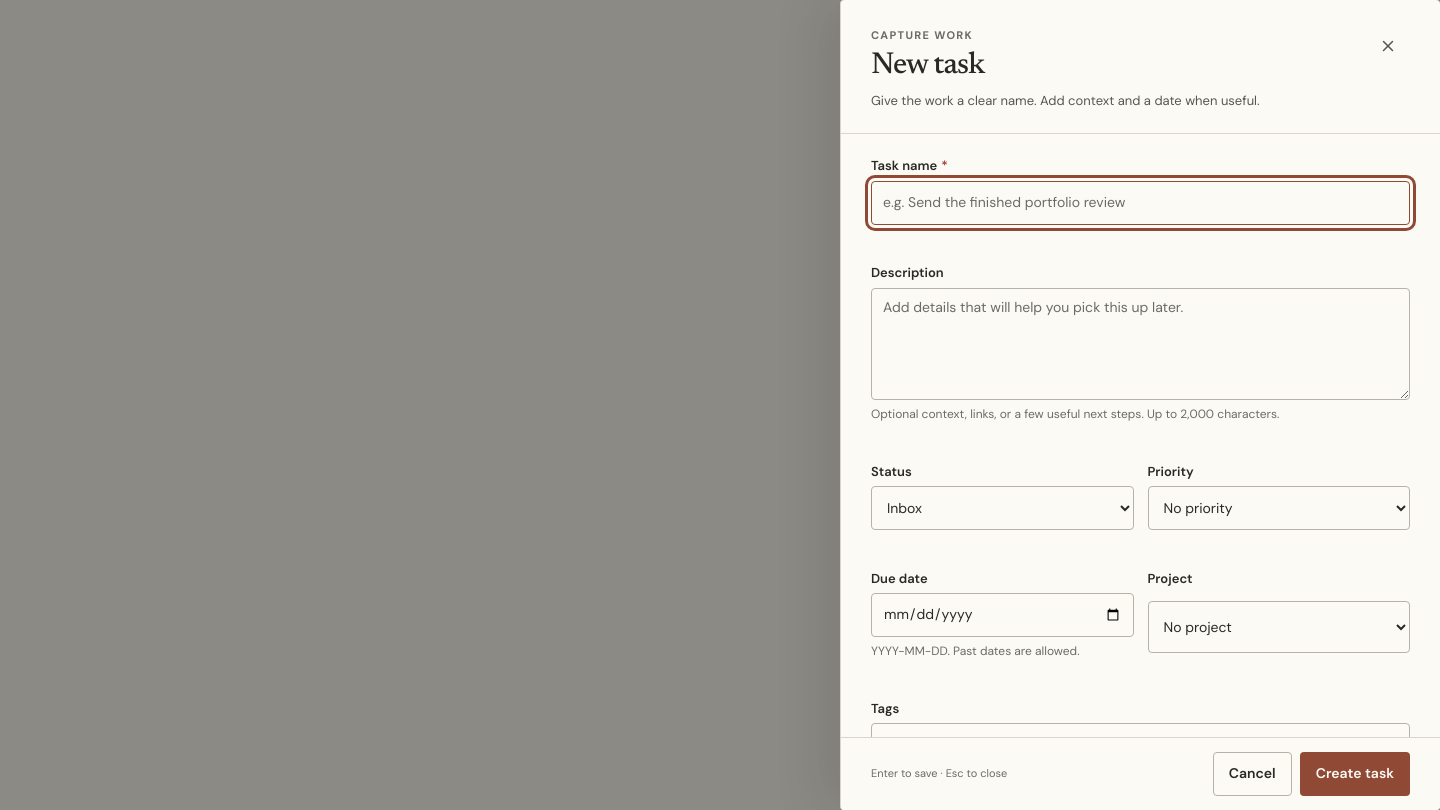
Test: TaskFormDialog › disables repeat submission while the save promise is pending
The width and height of the screenshot is (1440, 810).
Type "Write the outline" into the field labelled "Task name" at (1140, 203), box [871,181,1410,225]
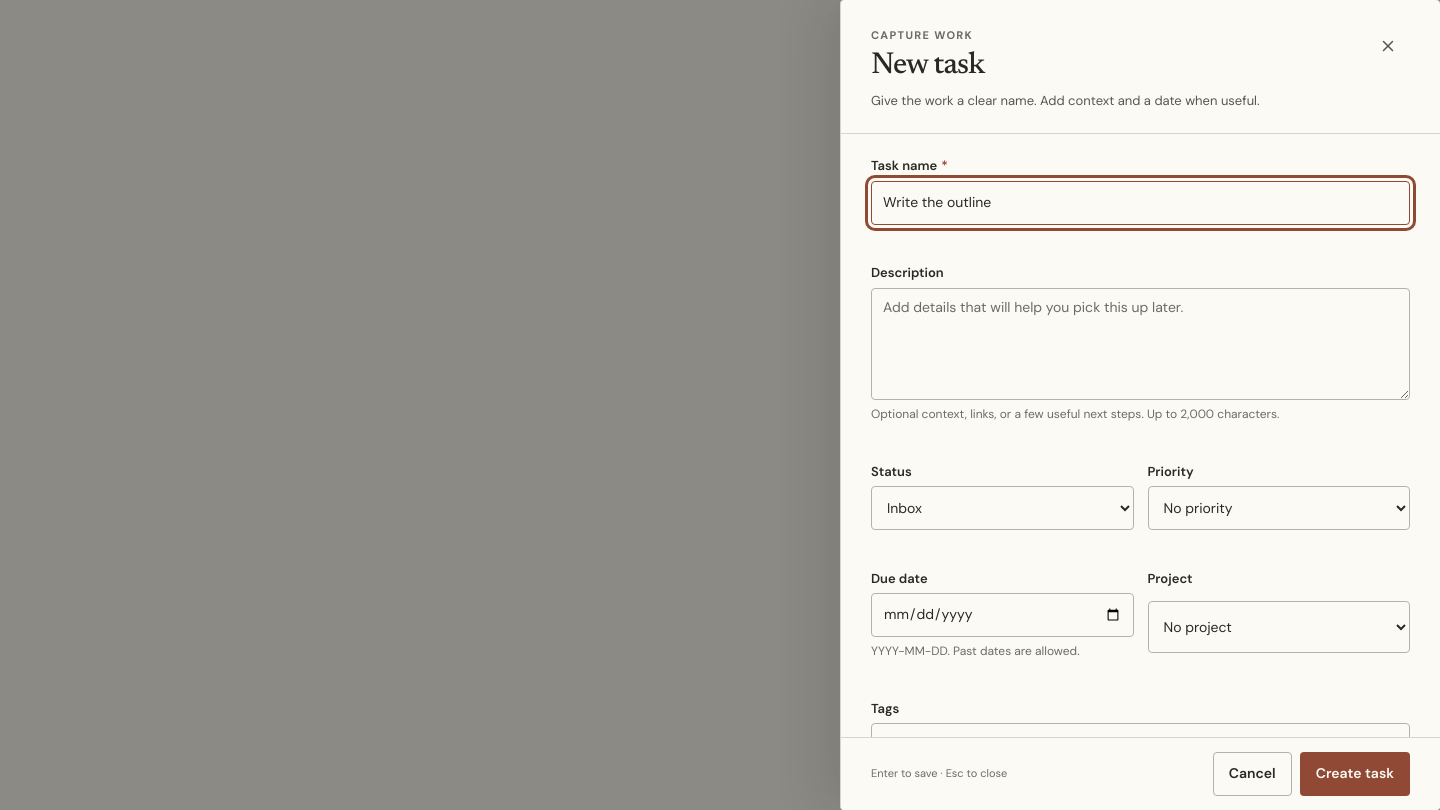
Click the button "Create task" at (1355, 774), box [1300,752,1410,796]
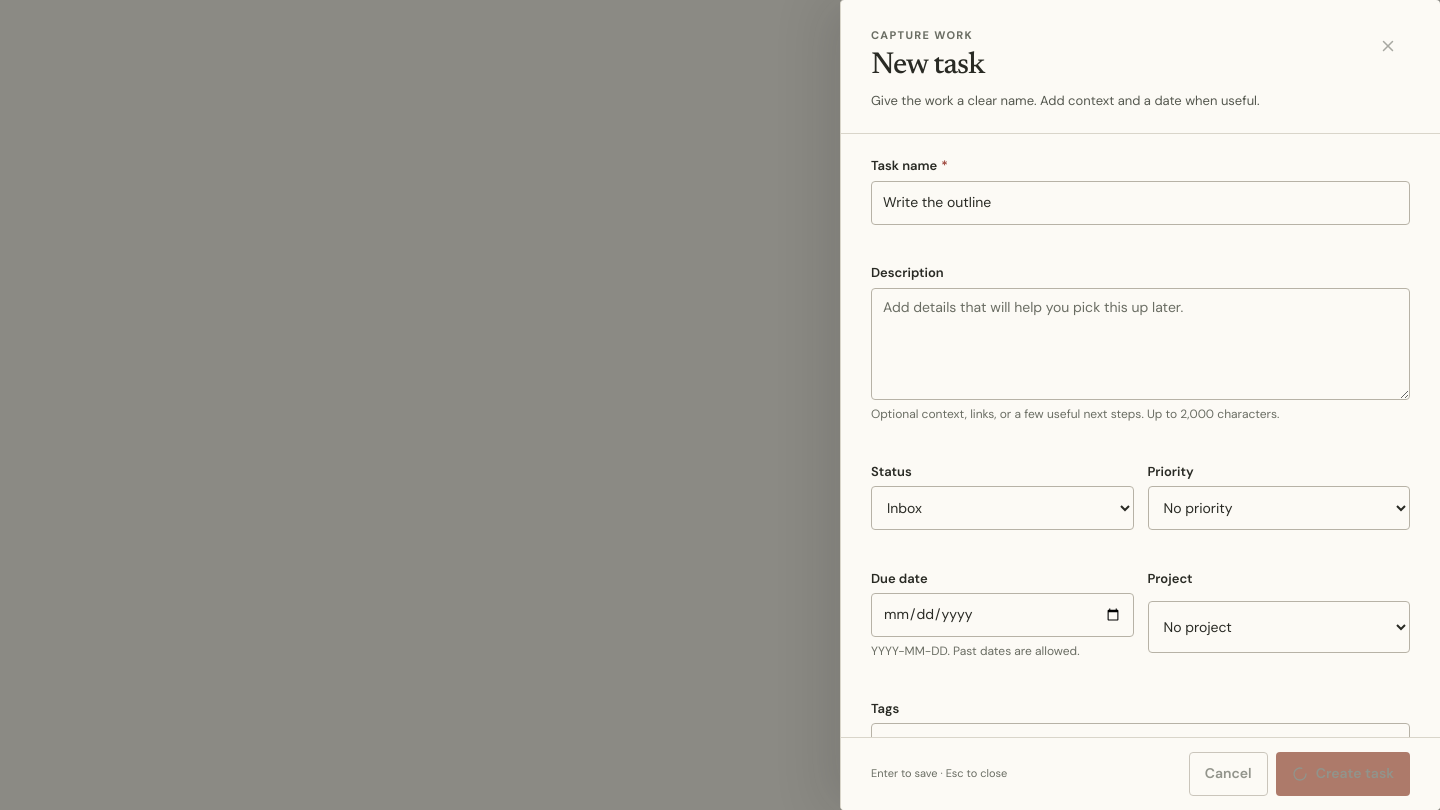
Expected: the button "Create task" is disabled
Click the button "Create task" at (1343, 774), box [1276,752,1410,796]
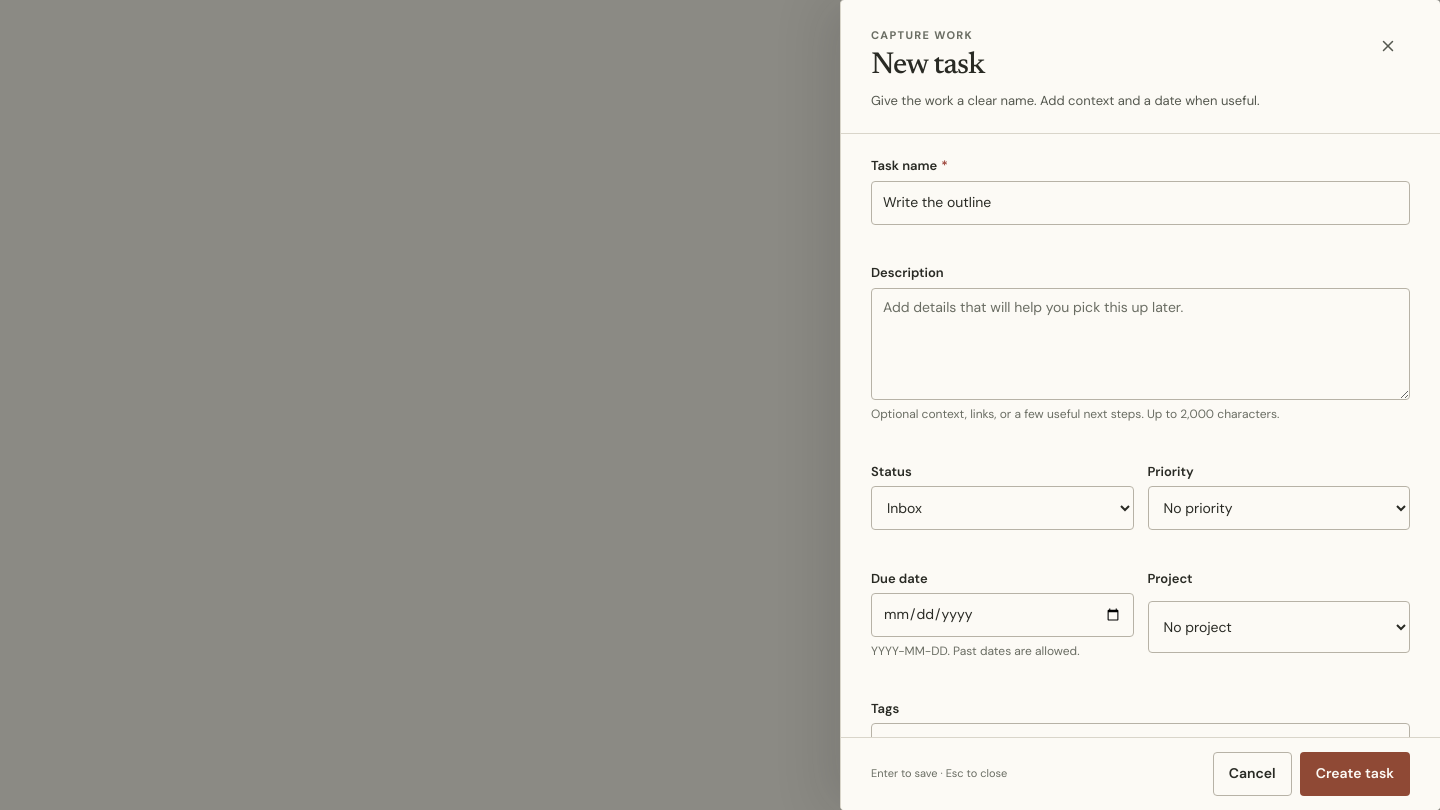
Expected: the button "Create task" is enabled, [1300,752,1410,796]
